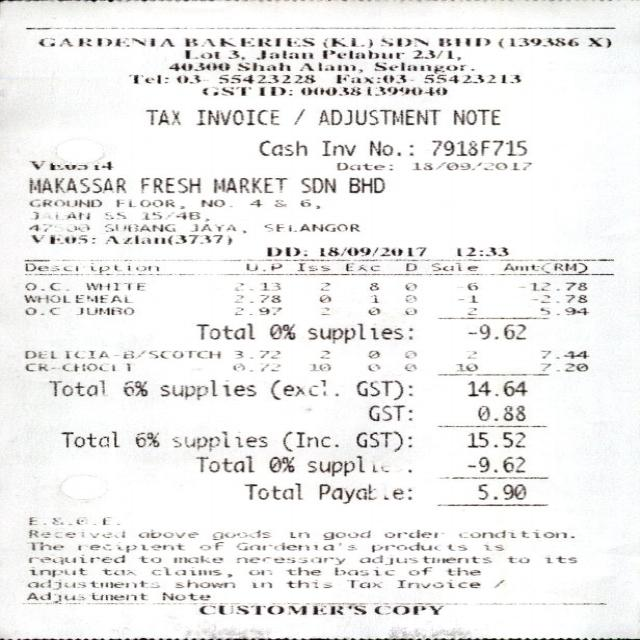text: (269, 322, 410, 358), (306, 454, 408, 476), (158, 378, 254, 400), (317, 108, 438, 125), (169, 430, 266, 451), (317, 482, 409, 504), (22, 349, 218, 358), (191, 604, 366, 614), (27, 176, 125, 193), (23, 261, 160, 273), (430, 139, 525, 155), (269, 378, 337, 400), (319, 247, 427, 260), (356, 554, 489, 564), (195, 109, 278, 125), (184, 36, 315, 46), (26, 578, 157, 588), (211, 176, 286, 193), (105, 234, 231, 244), (258, 323, 294, 358), (36, 37, 172, 46), (25, 591, 147, 601), (500, 260, 586, 274), (412, 160, 530, 170), (354, 379, 410, 400), (354, 431, 410, 452), (456, 528, 573, 538), (282, 431, 336, 452), (373, 62, 473, 73), (26, 553, 123, 564), (76, 542, 182, 552), (370, 541, 465, 552), (194, 454, 252, 472), (46, 378, 103, 396), (59, 430, 118, 447), (242, 482, 301, 499), (140, 176, 198, 193), (194, 322, 252, 339), (466, 431, 524, 448), (422, 72, 519, 82), (26, 528, 123, 538), (466, 380, 526, 396), (23, 362, 129, 371), (247, 541, 352, 550), (467, 455, 522, 472), (466, 323, 524, 339), (472, 404, 526, 421), (148, 566, 230, 577), (216, 74, 314, 83), (366, 85, 446, 96), (235, 556, 343, 564), (262, 223, 357, 232), (396, 578, 479, 588), (451, 108, 499, 125), (256, 139, 306, 155), (374, 604, 444, 615), (477, 483, 525, 499), (509, 36, 577, 47), (366, 404, 410, 421), (320, 49, 403, 58), (334, 74, 412, 83), (27, 516, 105, 525), (113, 198, 183, 208), (298, 61, 361, 72), (455, 247, 507, 260), (142, 210, 207, 220), (28, 233, 87, 244), (29, 198, 100, 207), (102, 223, 173, 232), (160, 591, 209, 604), (346, 176, 383, 193), (211, 528, 268, 539), (230, 281, 282, 293), (167, 61, 229, 71), (530, 294, 592, 304), (26, 160, 86, 170), (299, 176, 334, 193), (430, 261, 479, 273), (254, 49, 312, 59), (143, 109, 179, 125), (261, 247, 305, 260), (410, 49, 460, 60), (382, 528, 437, 538), (299, 86, 360, 95), (320, 139, 354, 155), (376, 37, 430, 47), (228, 294, 282, 304), (332, 566, 392, 575), (83, 281, 142, 290), (31, 210, 88, 219), (200, 86, 250, 96), (26, 223, 87, 231), (526, 282, 587, 290), (236, 61, 289, 70), (536, 306, 589, 315), (238, 262, 285, 272), (74, 307, 132, 315), (27, 568, 85, 576), (174, 579, 232, 587), (266, 455, 293, 472), (438, 37, 488, 46), (172, 554, 222, 563), (320, 530, 369, 539), (189, 224, 244, 232), (286, 578, 330, 588), (336, 162, 390, 170), (72, 294, 126, 302), (539, 349, 587, 358), (230, 362, 278, 371), (320, 37, 363, 47), (367, 139, 392, 156), (136, 531, 196, 538), (341, 261, 379, 272), (120, 380, 146, 396), (132, 431, 158, 447), (540, 362, 586, 371), (23, 281, 66, 290), (232, 307, 280, 315), (182, 48, 218, 58), (22, 294, 67, 302), (128, 74, 167, 83), (444, 566, 479, 576), (258, 86, 291, 96), (296, 262, 329, 272), (284, 566, 319, 575), (28, 541, 61, 550), (350, 578, 379, 588), (454, 280, 480, 291), (99, 567, 131, 575), (22, 307, 58, 314), (454, 294, 479, 304), (586, 37, 610, 47), (544, 555, 574, 563), (196, 541, 222, 550), (317, 292, 332, 307), (174, 74, 198, 83), (401, 305, 419, 317), (406, 566, 430, 575), (314, 279, 328, 294), (298, 198, 318, 208), (399, 281, 417, 292), (454, 362, 476, 371), (92, 160, 111, 170), (463, 306, 482, 316), (226, 49, 243, 60), (292, 107, 303, 124), (200, 198, 223, 206), (505, 555, 528, 563), (232, 349, 251, 358), (102, 212, 124, 219), (137, 555, 159, 562), (310, 363, 329, 371), (401, 293, 416, 303), (246, 569, 270, 575), (402, 262, 416, 272), (288, 531, 307, 538), (481, 544, 502, 550), (249, 581, 270, 587), (367, 280, 379, 290), (402, 349, 415, 358), (367, 306, 379, 315), (248, 198, 261, 206), (365, 363, 378, 371), (402, 363, 415, 371), (368, 294, 378, 304), (367, 349, 378, 358), (272, 198, 284, 206), (464, 350, 475, 358), (492, 579, 503, 587), (319, 307, 327, 314), (319, 356, 327, 358)
